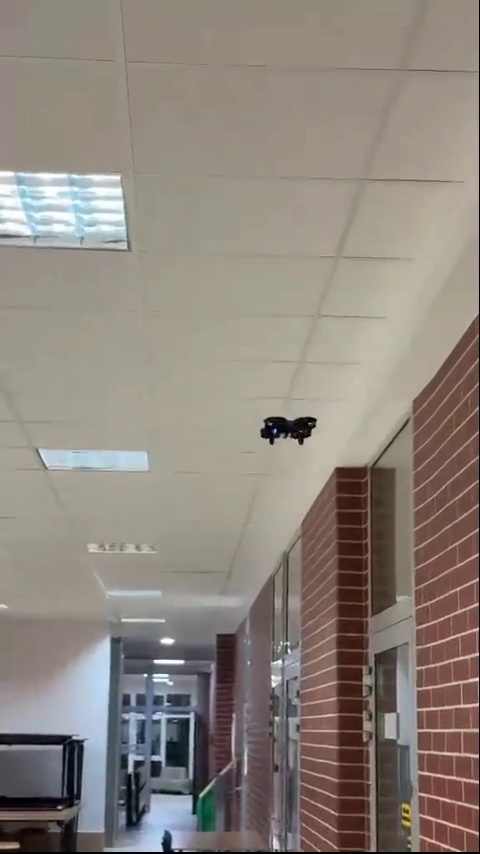drone: (259, 416, 320, 442)
